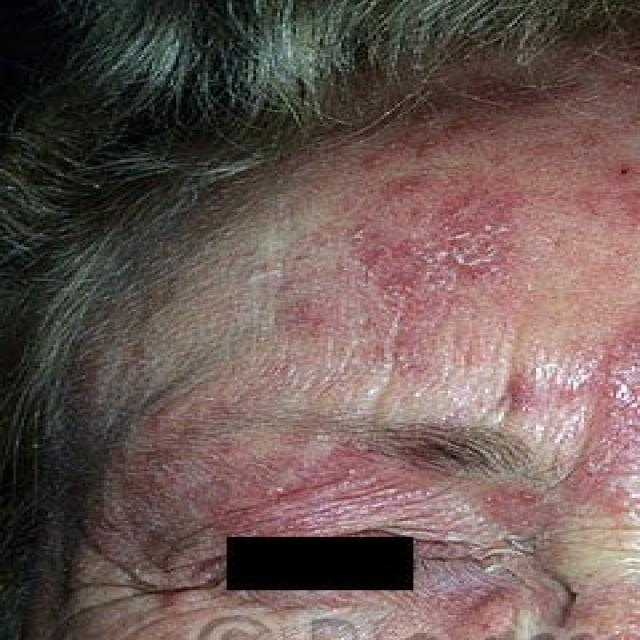Rosacea: (310, 183, 579, 366)
